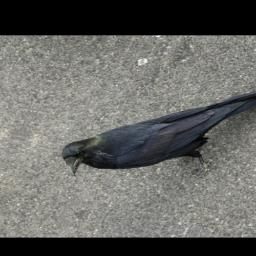Crow: (50, 61, 256, 199)
